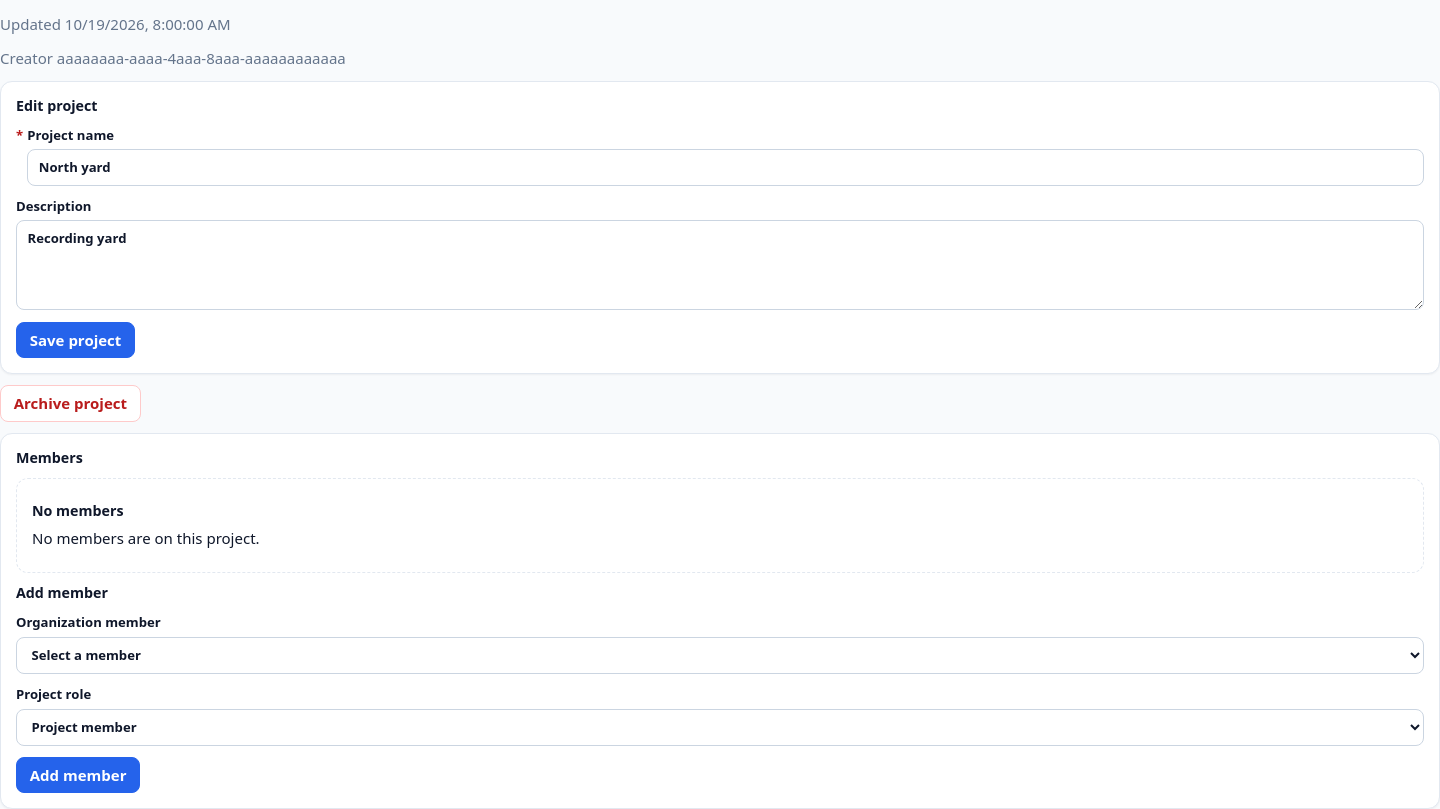
Test: project membership screens › keeps an empty member choice off the API
This screenshot has width=1440, height=809.
(page scrolled)
Click the button "Add member" at (78, 775), box [16,757,140,793]
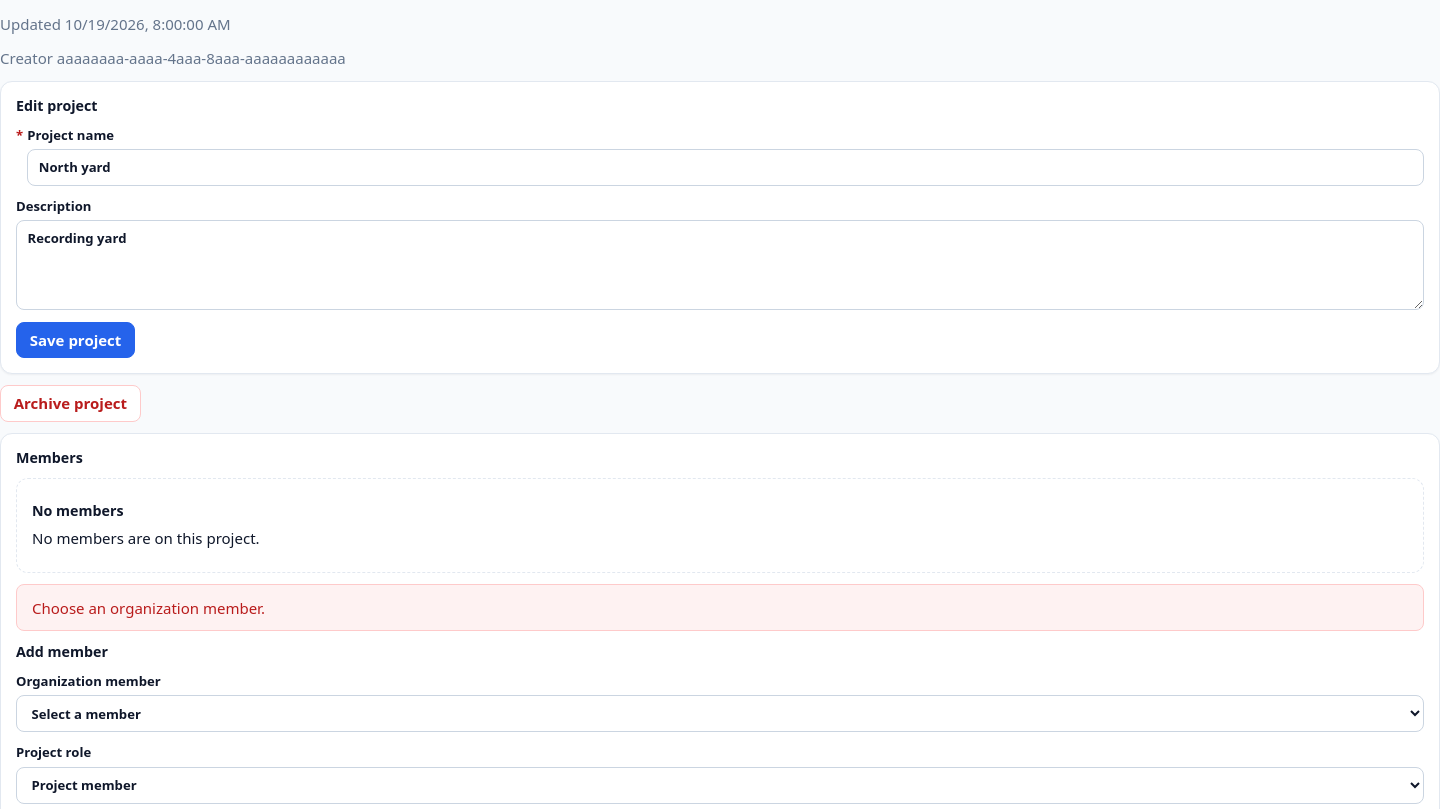
Expected: the message reads "Choose an organization member.", [32,598,265,618]
